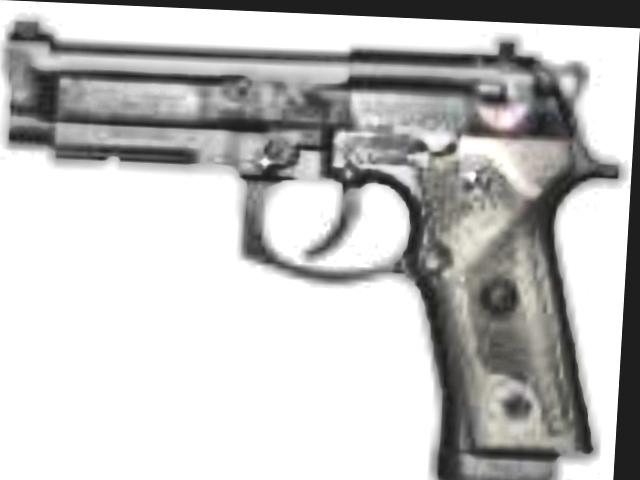pistol: (0, 4, 620, 480)
